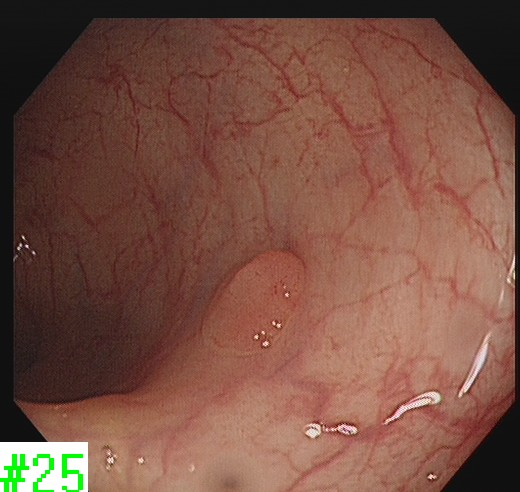adenoma: (198, 247, 310, 358)
